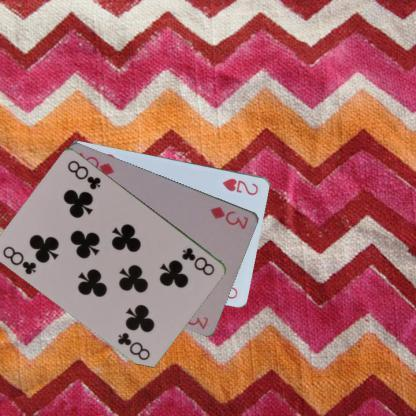2h: (220, 175, 260, 197)
3d: (208, 204, 250, 231)
8c: (0, 243, 38, 276), (179, 245, 217, 276)
